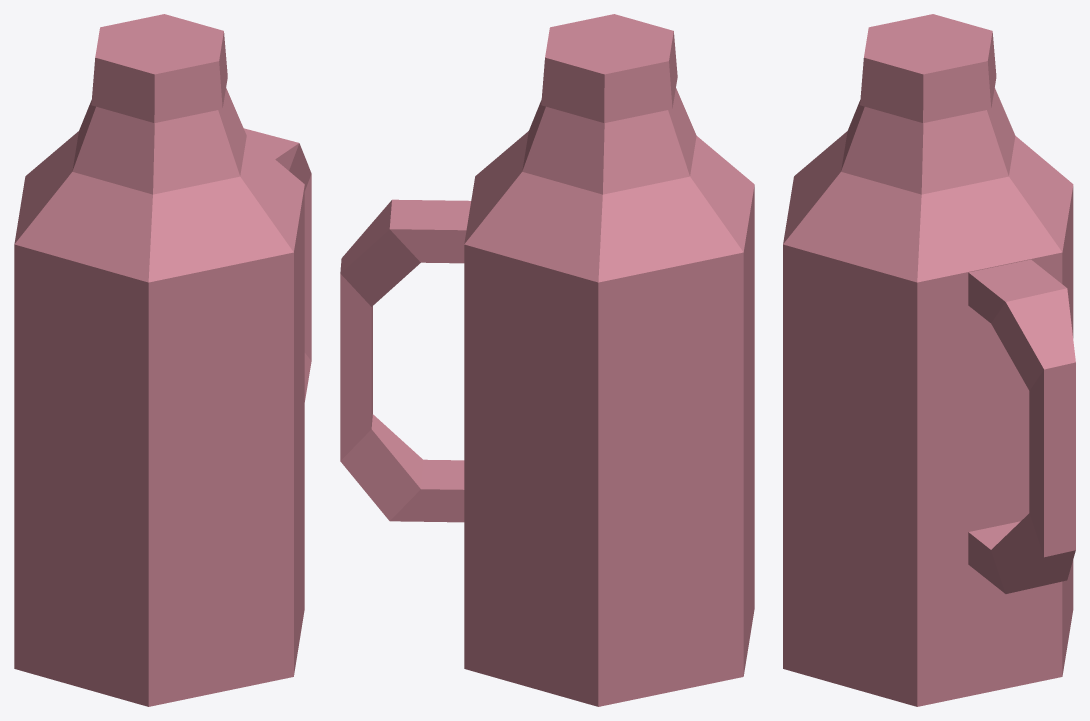
File: Laundry_Bottle_handle2.fbx
3 renders of one model, left to right at view 1: azimuth 30°, elevation 25°; view 2: azimuth 150°, elevation 25°; view 3: azimuth 270°, elevation 25°, orthographic.
Visible parts, largest first — view 1: Laundry_Bottle_handle2; view 2: Laundry_Bottle_handle2; view 3: Laundry_Bottle_handle2.
Part boxes in pixels (x1,y1,x2,y2): Laundry_Bottle_handle2: (14, 14, 311, 706); Laundry_Bottle_handle2: (340, 14, 754, 706); Laundry_Bottle_handle2: (783, 14, 1075, 706).
Bounding box in the file's own units: 19.5 × 31.69 × 14.15.
